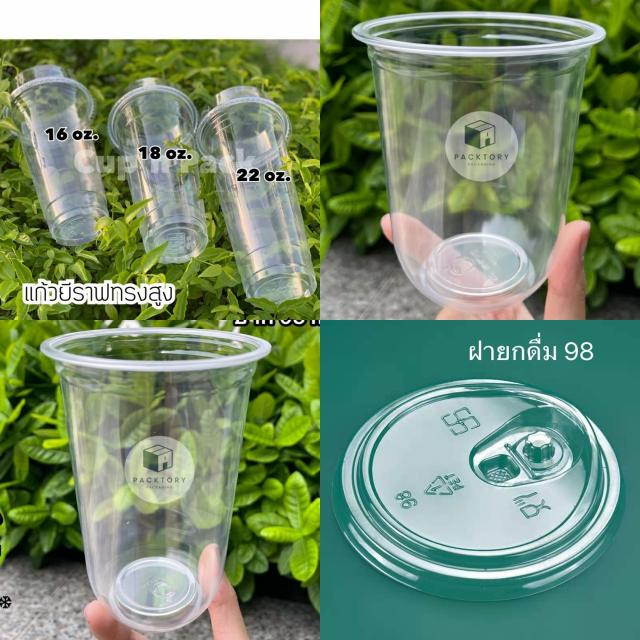Single-Use-Plastic: (352, 12, 605, 311), (41, 328, 271, 631), (332, 379, 622, 601), (198, 86, 316, 303), (108, 78, 208, 264), (10, 65, 109, 245)
